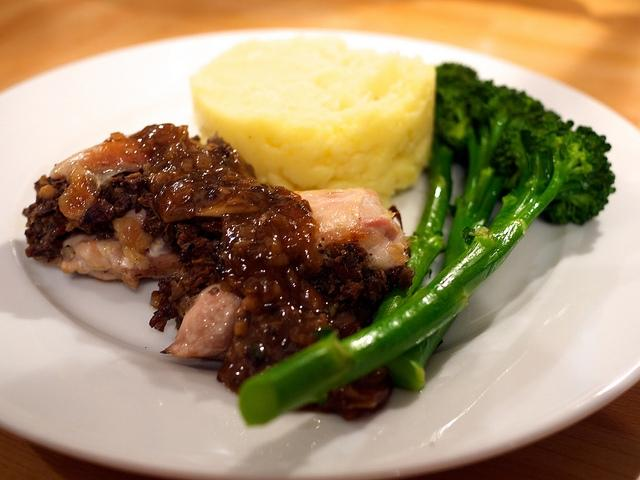broccoli: (240, 62, 616, 425)
potato: (188, 34, 436, 209)
